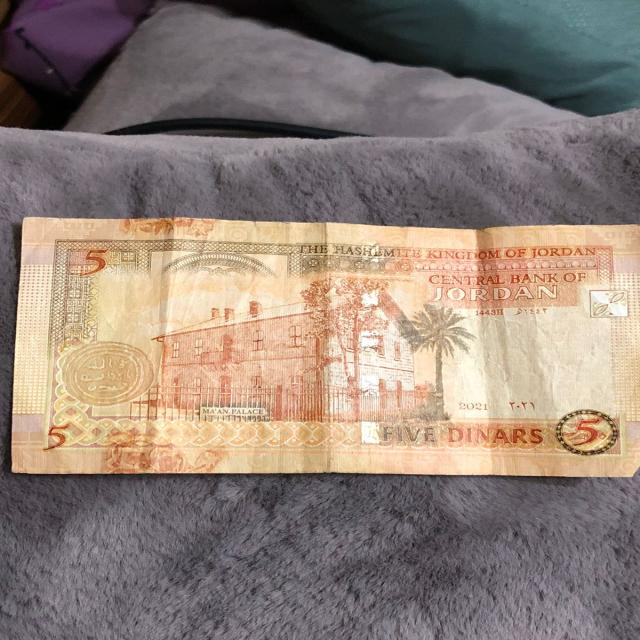5-dinar: (5, 212, 640, 481)
